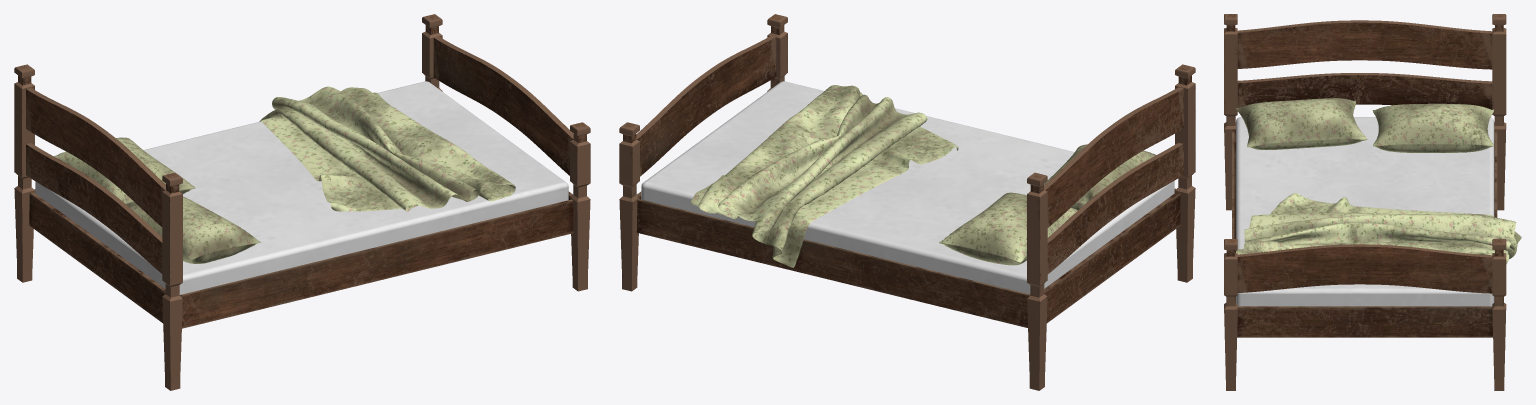
File: cama_dui.obj
3 views of the same model, side by side, from view 1: azimuth 30°, elevation 25°; view 2: azimuth 150°, elevation 25°; view 3: azimuth 270°, elevation 25° (orthographic). The views are drawn at different scales.
Visible parts, largest first — view 1: Old_wood_bed; view 2: Old_wood_bed; view 3: Old_wood_bed.
Part boxes in pixels (box(x1,y1,x2,y2)): Old_wood_bed: box(14, 14, 590, 390); Old_wood_bed: box(619, 14, 1195, 390); Old_wood_bed: box(1224, 14, 1521, 390).
Bounding box in the file's own units: 42.47 × 20.42 × 28.69.
4 materials, 4 textured.
